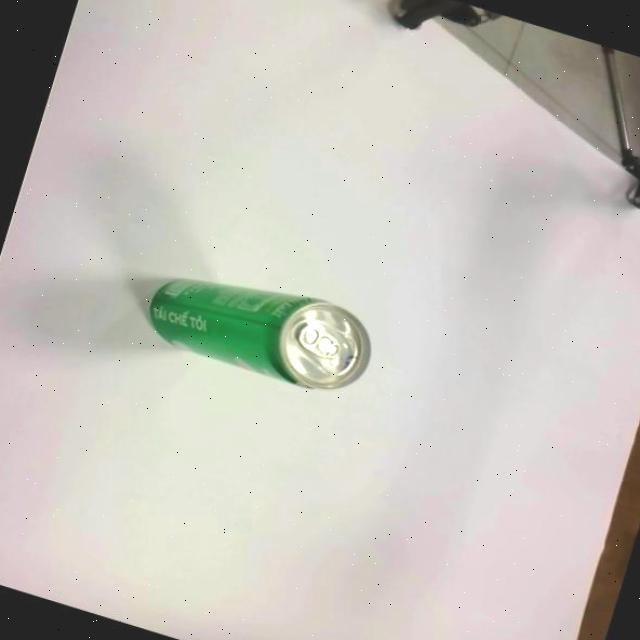debris: (136, 248, 383, 406)
